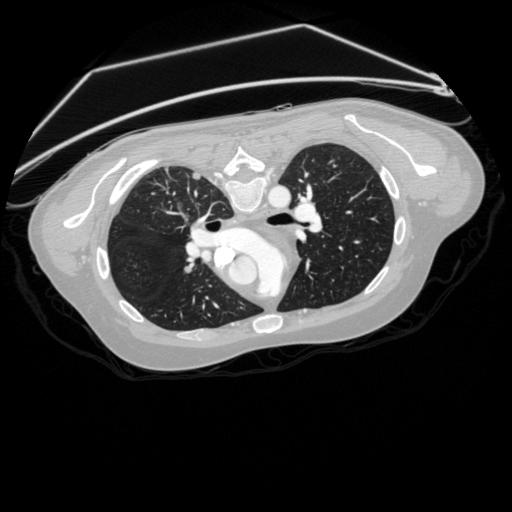nodule: (189, 171, 203, 185)
